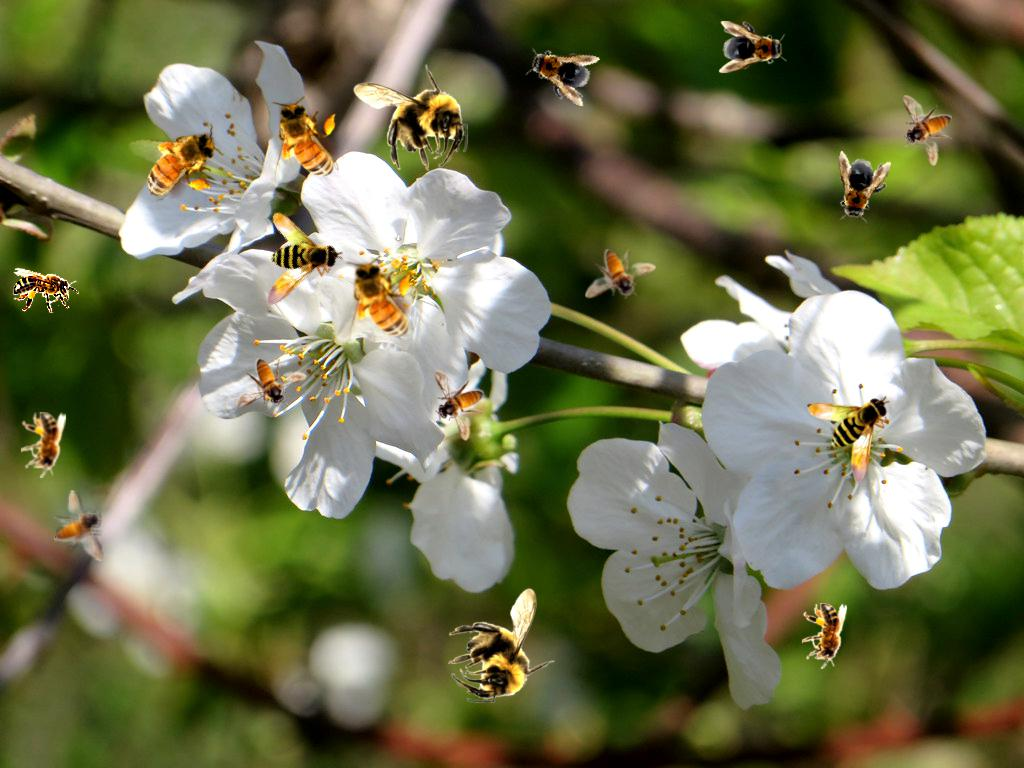Bee: (227, 204, 347, 324), (448, 588, 555, 703), (353, 64, 468, 171), (126, 121, 230, 206), (808, 396, 890, 484), (271, 96, 339, 189), (346, 256, 414, 349), (519, 36, 601, 108), (828, 151, 892, 227), (434, 370, 484, 441), (236, 358, 307, 408), (585, 249, 656, 299), (54, 490, 104, 561), (902, 95, 952, 166), (719, 21, 787, 73), (21, 412, 66, 478), (13, 268, 79, 313), (802, 603, 847, 669)
